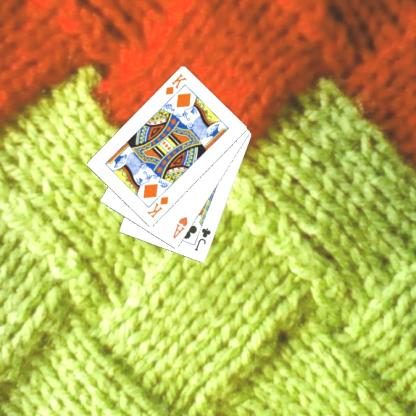AH: (170, 214, 190, 240)
JC: (192, 225, 212, 253)
KD: (144, 194, 170, 220), (162, 71, 188, 96)
